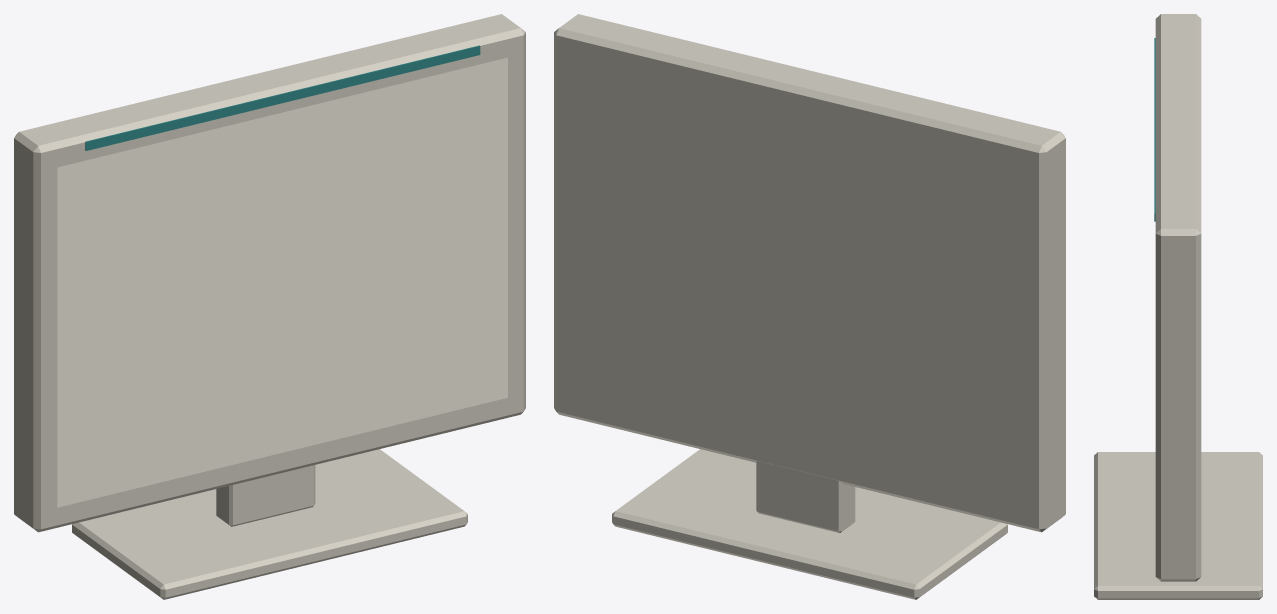
File: instruction_panel.glb
3 renders of one model, left to right at view 1: azimuth 30°, elevation 25°; view 2: azimuth 150°, elevation 25°; view 3: azimuth 270°, elevation 25°, orthographic. The views are drawn at different scales.
Visible parts, largest first — view 1: instruction_face, instruction_housing, instruction_accent; view 2: instruction_housing; view 3: instruction_housing, instruction_accent.
Boxes of the visible parts, bbox=[...] form: instruction_face: bbox=[57, 57, 507, 507]; instruction_housing: bbox=[14, 14, 525, 599]; instruction_accent: bbox=[85, 45, 480, 150]; instruction_housing: bbox=[554, 14, 1065, 599]; instruction_housing: bbox=[1094, 14, 1262, 599]; instruction_accent: bbox=[1154, 38, 1155, 221].
Size of the model in its own units: 0.4 by 0.35 by 0.13.
